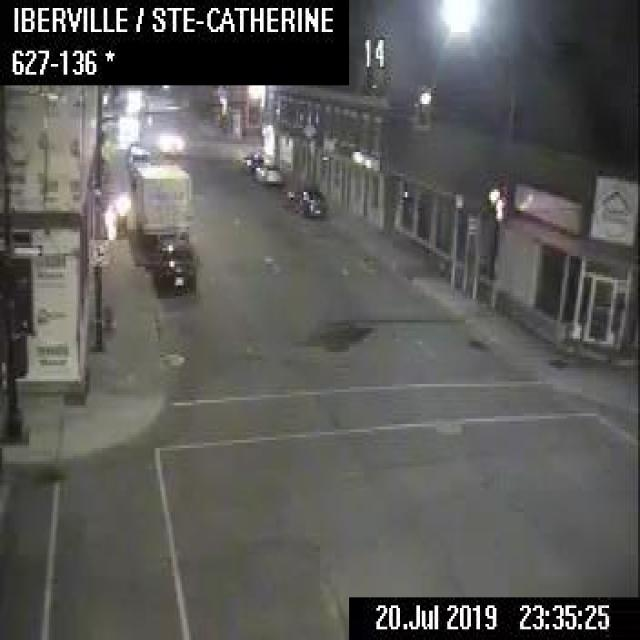vehicle: (133, 162, 189, 242), (152, 236, 197, 295), (291, 185, 326, 215), (126, 144, 149, 180), (253, 160, 282, 184), (157, 130, 181, 153), (241, 150, 263, 171)
